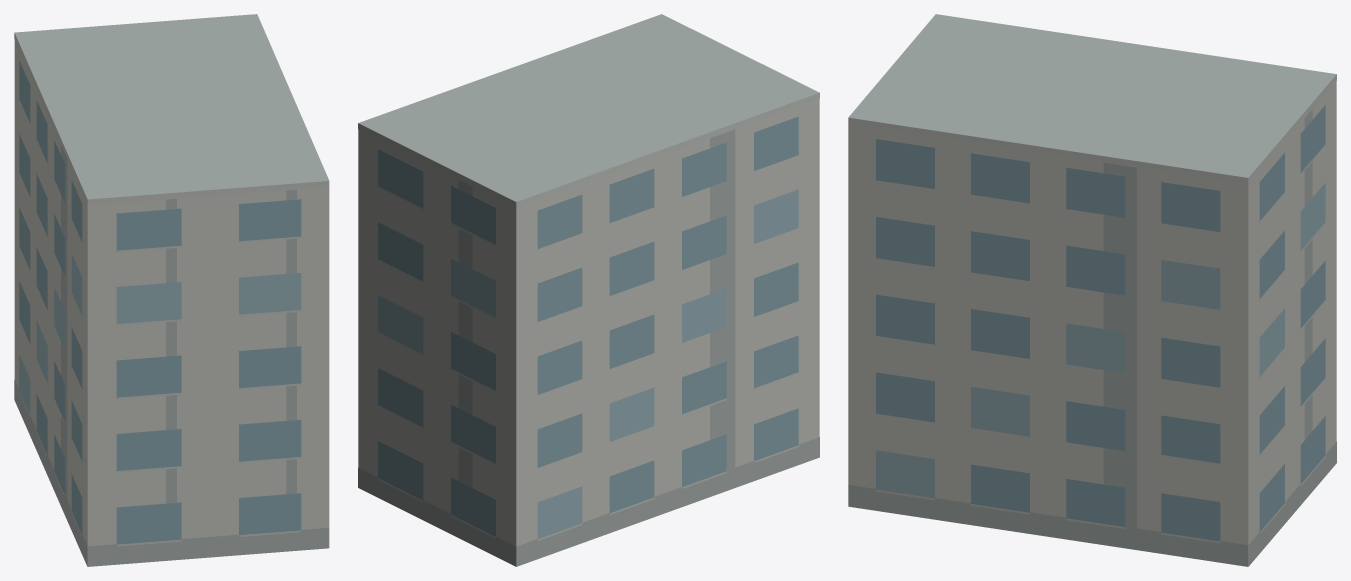
Rendered from survey-upis-32890872.glb.
3 views of the same model, side by side, from view 1: azimuth 30°, elevation 25°; view 2: azimuth 150°, elevation 25°; view 3: azimuth 270°, elevation 25° (orthographic). The views are drawn at different scales.
Parts seen in each view (by area): view 1: survey-upis-32890872.tmp; view 2: survey-upis-32890872.tmp; view 3: survey-upis-32890872.tmp.
Part boxes in pixels (x1,y1,x2,y2): survey-upis-32890872.tmp: [14, 14, 329, 566]; survey-upis-32890872.tmp: [358, 14, 819, 566]; survey-upis-32890872.tmp: [848, 14, 1336, 566].
Size of the model in its own units: 13.08 by 14.46 by 16.47.
